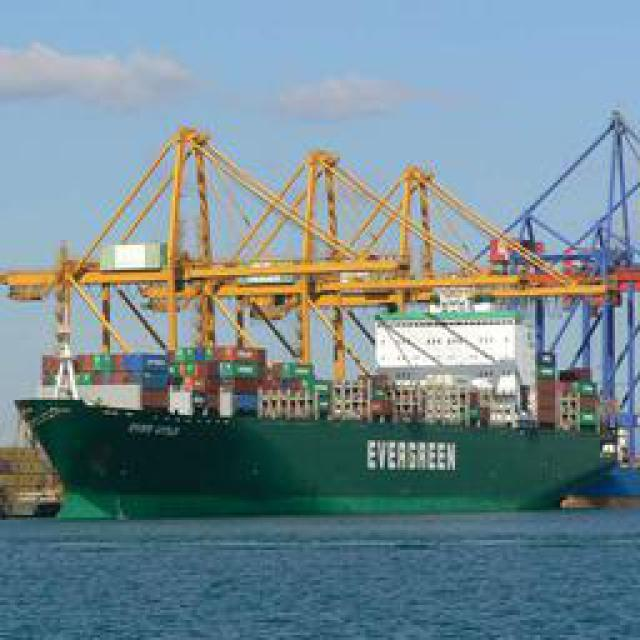Ship: (9, 121, 639, 511)
